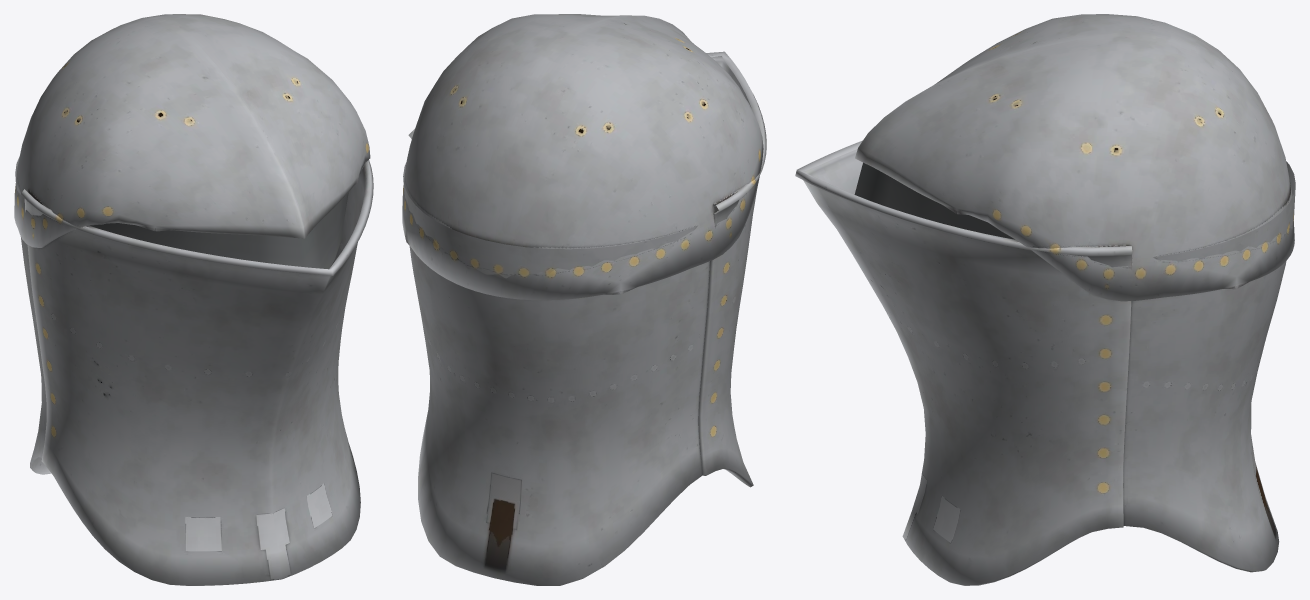
Rendered from stechhelm.glb.
3 renders of one model, left to right at view 1: azimuth 30°, elevation 25°; view 2: azimuth 150°, elevation 25°; view 3: azimuth 270°, elevation 25°, orthographic. The views are drawn at different scales.
Visible parts, largest first — view 1: helm_stechhelm; view 2: helm_stechhelm; view 3: helm_stechhelm.
Boxes of the visible parts, x1,y1,x2,y2 form: helm_stechhelm: [14, 14, 373, 585]; helm_stechhelm: [402, 14, 766, 585]; helm_stechhelm: [795, 14, 1295, 585].
Size of the model in its own units: 0.3058 by 0.4503 by 0.4016.
1 material, 1 textured.
